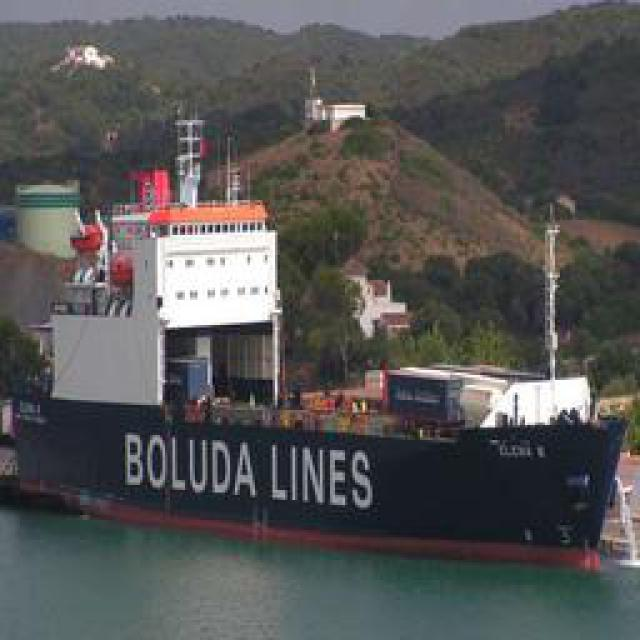Ship: (15, 90, 639, 578)
